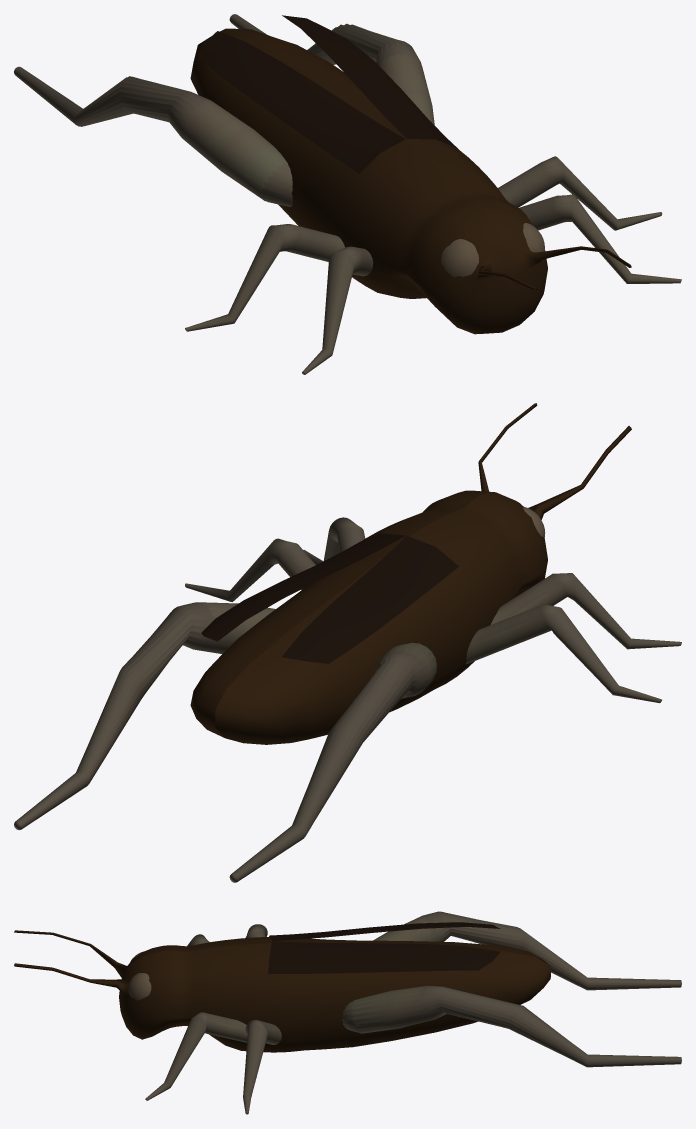
Rendered from insect.fbx.
The picture shows the model from 3 angles, top to bottom: view 1: azimuth 30°, elevation 25°; view 2: azimuth 150°, elevation 25°; view 3: azimuth 270°, elevation 25°; orthographic projection. The views are drawn at different scales.
Visible parts, largest first — view 1: pCube3; view 2: pCube3; view 3: pCube3.
Boxes of the visible parts, box(x1,y1,x2,y2) form: pCube3: box(14, 14, 681, 374); pCube3: box(14, 403, 681, 882); pCube3: box(14, 911, 681, 1114).
Bounding box in the file's own units: 6.52 × 1.96 × 10.87.
